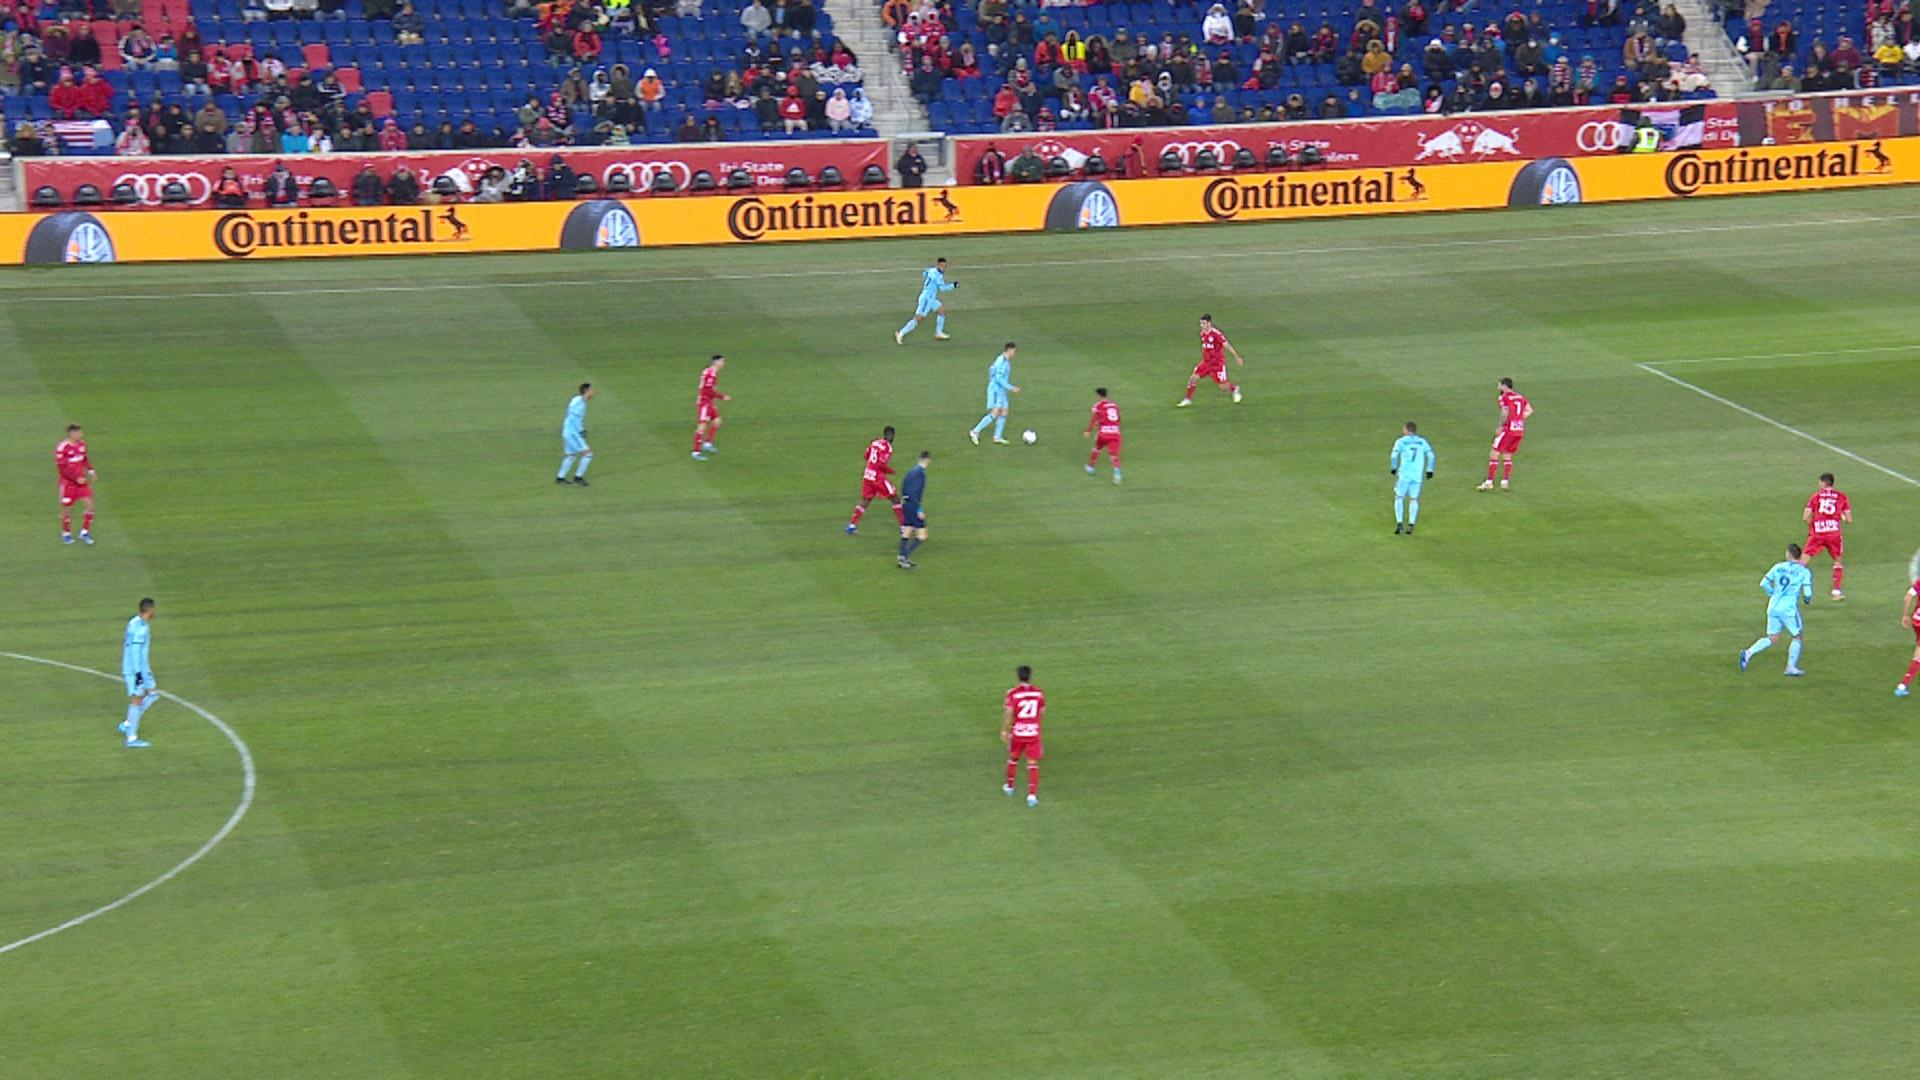football: (1021, 429, 1038, 446)
